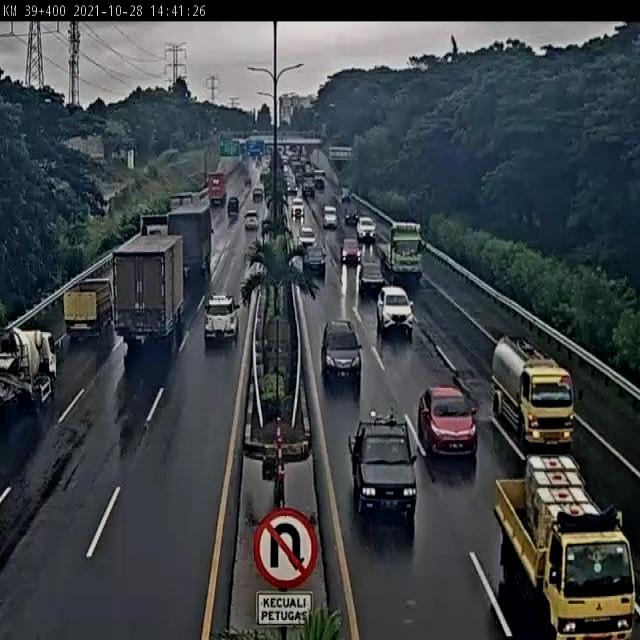Car: (346, 410, 422, 516), (418, 386, 478, 459), (320, 320, 362, 392), (376, 286, 414, 338), (203, 294, 239, 346), (359, 253, 385, 296), (303, 243, 327, 275), (356, 216, 376, 242), (298, 226, 316, 248), (323, 206, 338, 229), (291, 197, 305, 220), (244, 209, 259, 230), (344, 208, 359, 225), (302, 179, 315, 198), (227, 196, 239, 216), (286, 180, 298, 196), (314, 171, 324, 190), (257, 161, 267, 179), (341, 188, 352, 203), (282, 151, 290, 170), (253, 187, 263, 202)
Truck: (492, 461, 634, 639), (492, 335, 572, 452), (112, 234, 184, 359), (1, 327, 59, 418), (168, 200, 210, 290), (63, 279, 115, 344), (384, 220, 424, 287), (207, 171, 227, 206), (340, 237, 361, 266), (294, 161, 306, 183), (266, 190, 278, 211), (304, 164, 314, 182), (265, 142, 276, 156), (242, 148, 253, 162), (299, 146, 309, 159), (278, 146, 284, 158)
